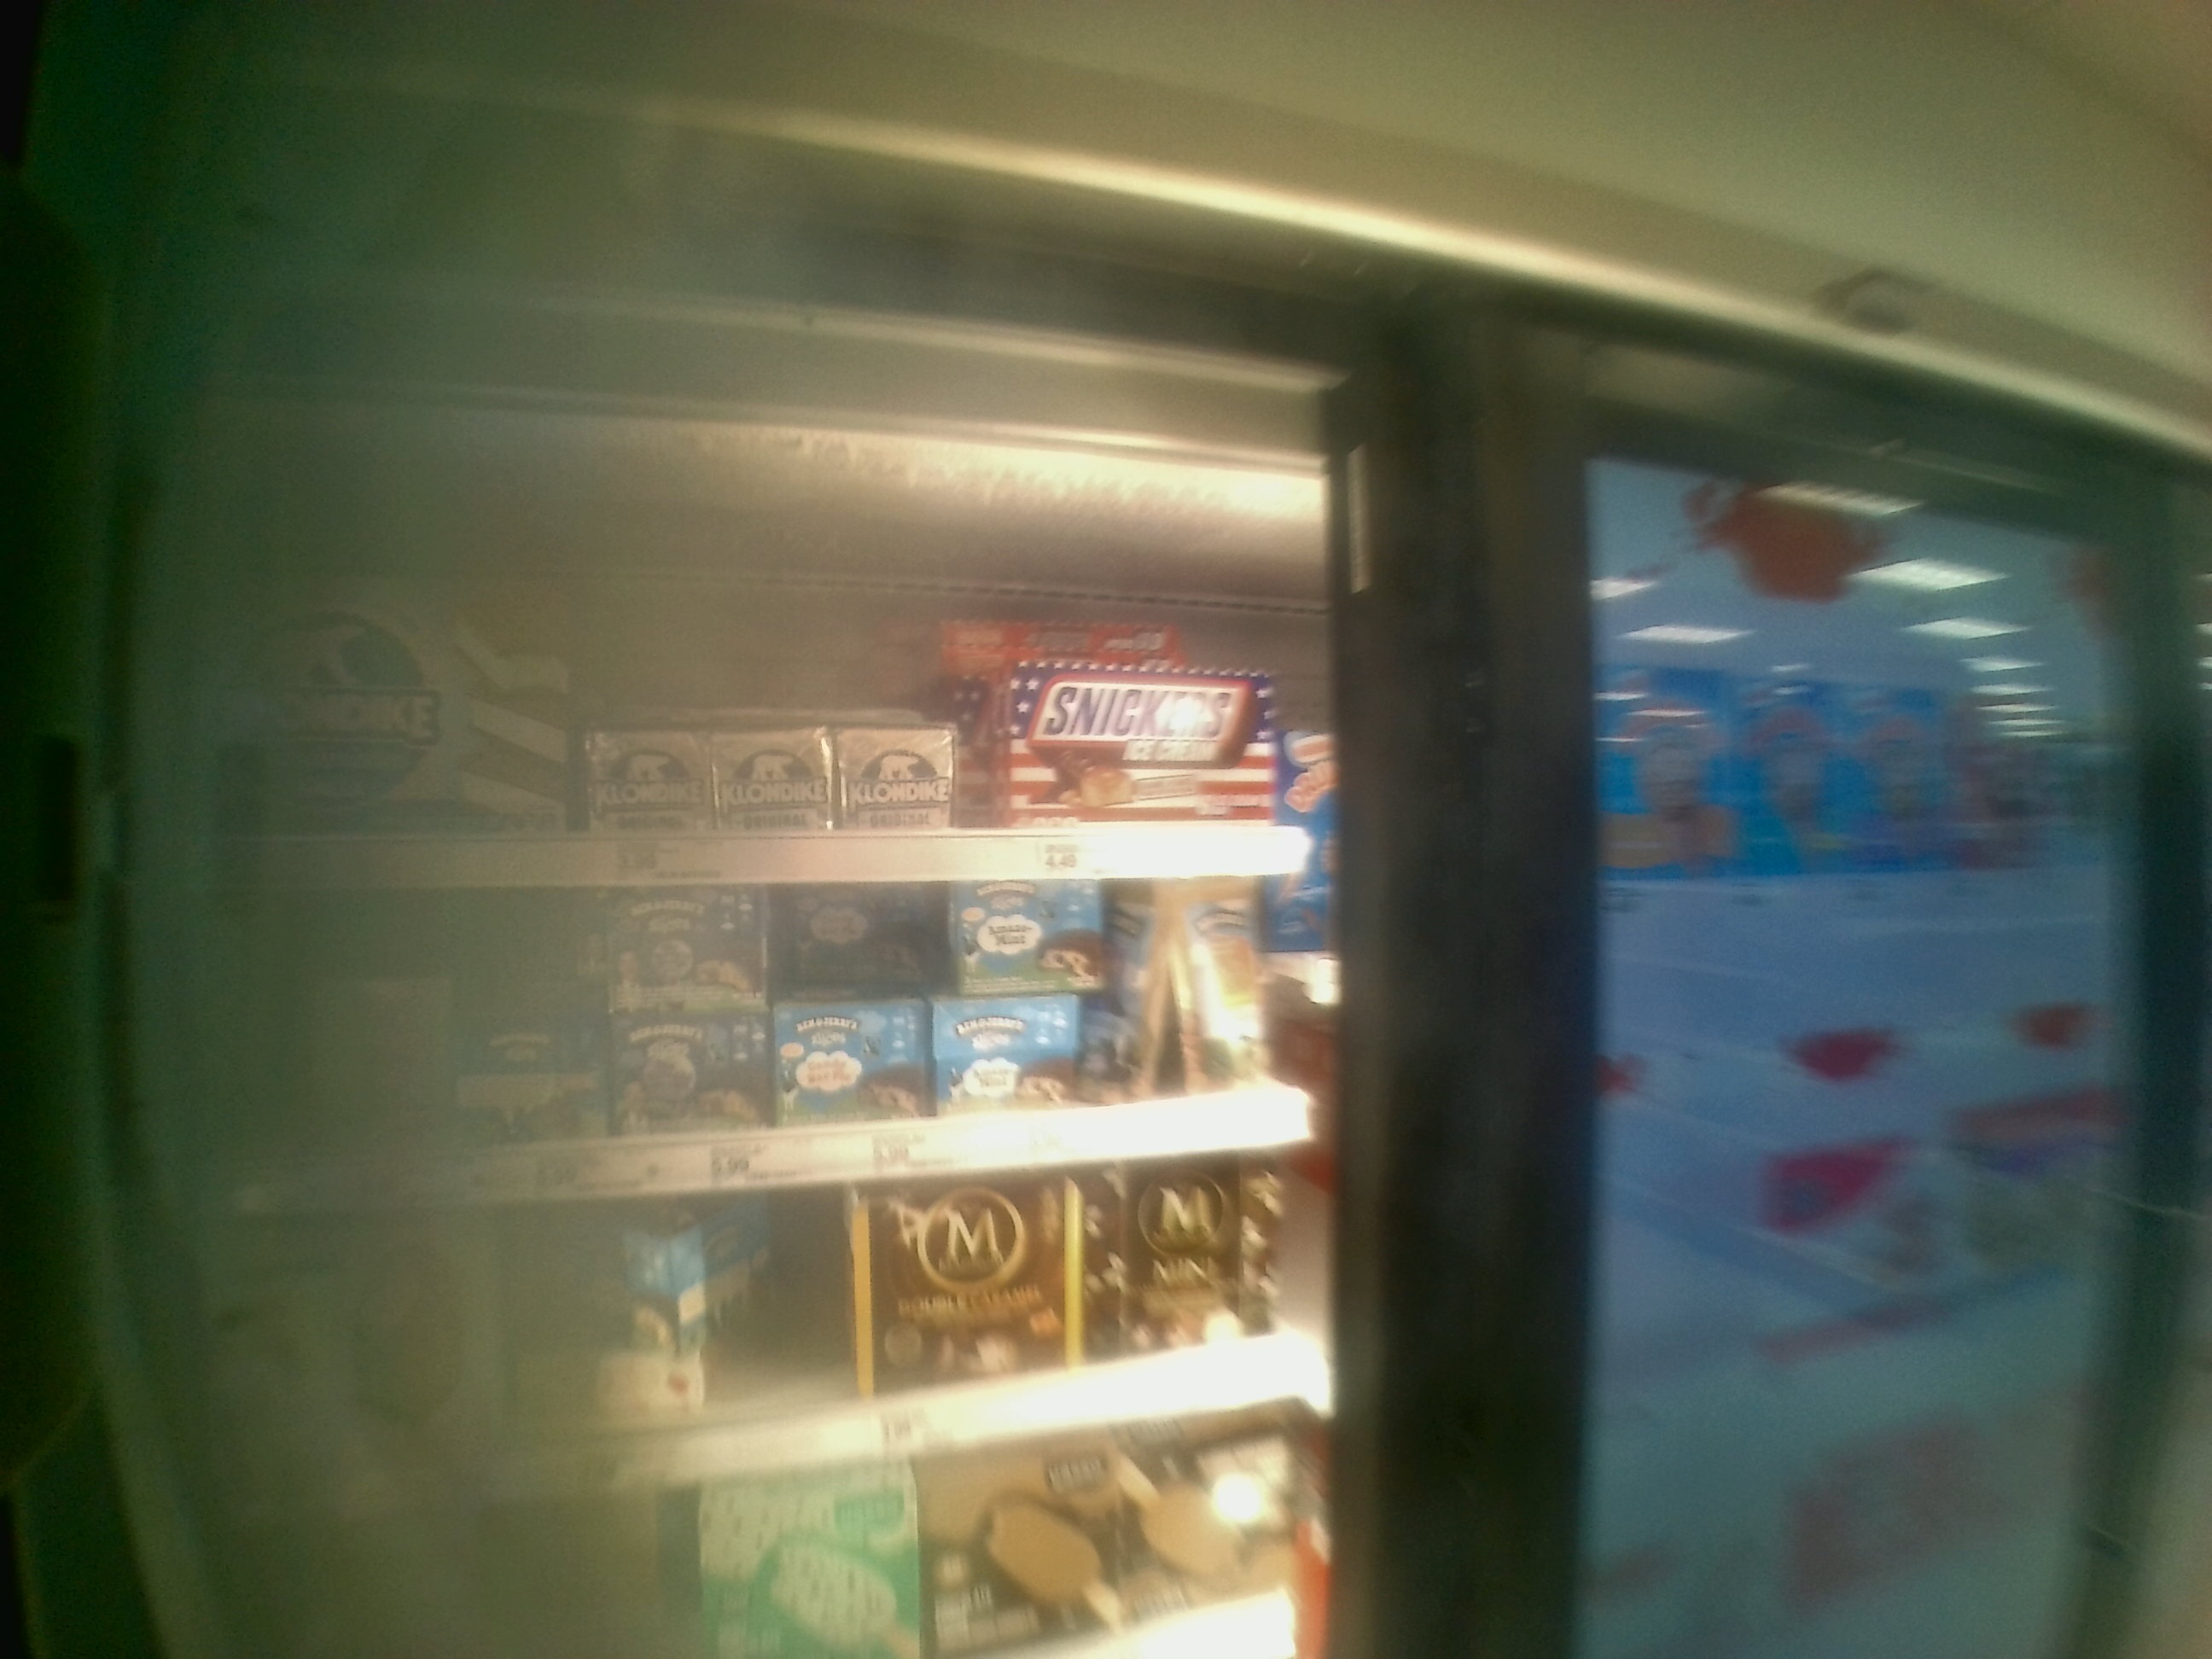ice-cream-shelf: (195, 545, 1325, 878), (200, 887, 1345, 1199)
